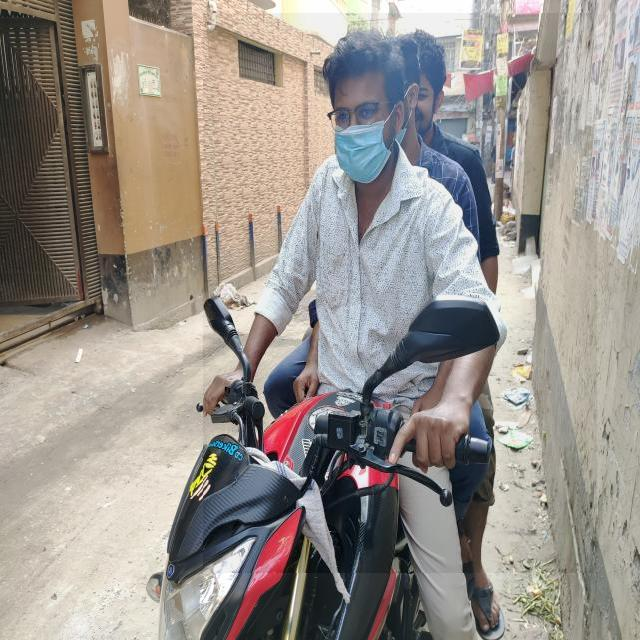Overloading: (203, 13, 598, 573)
